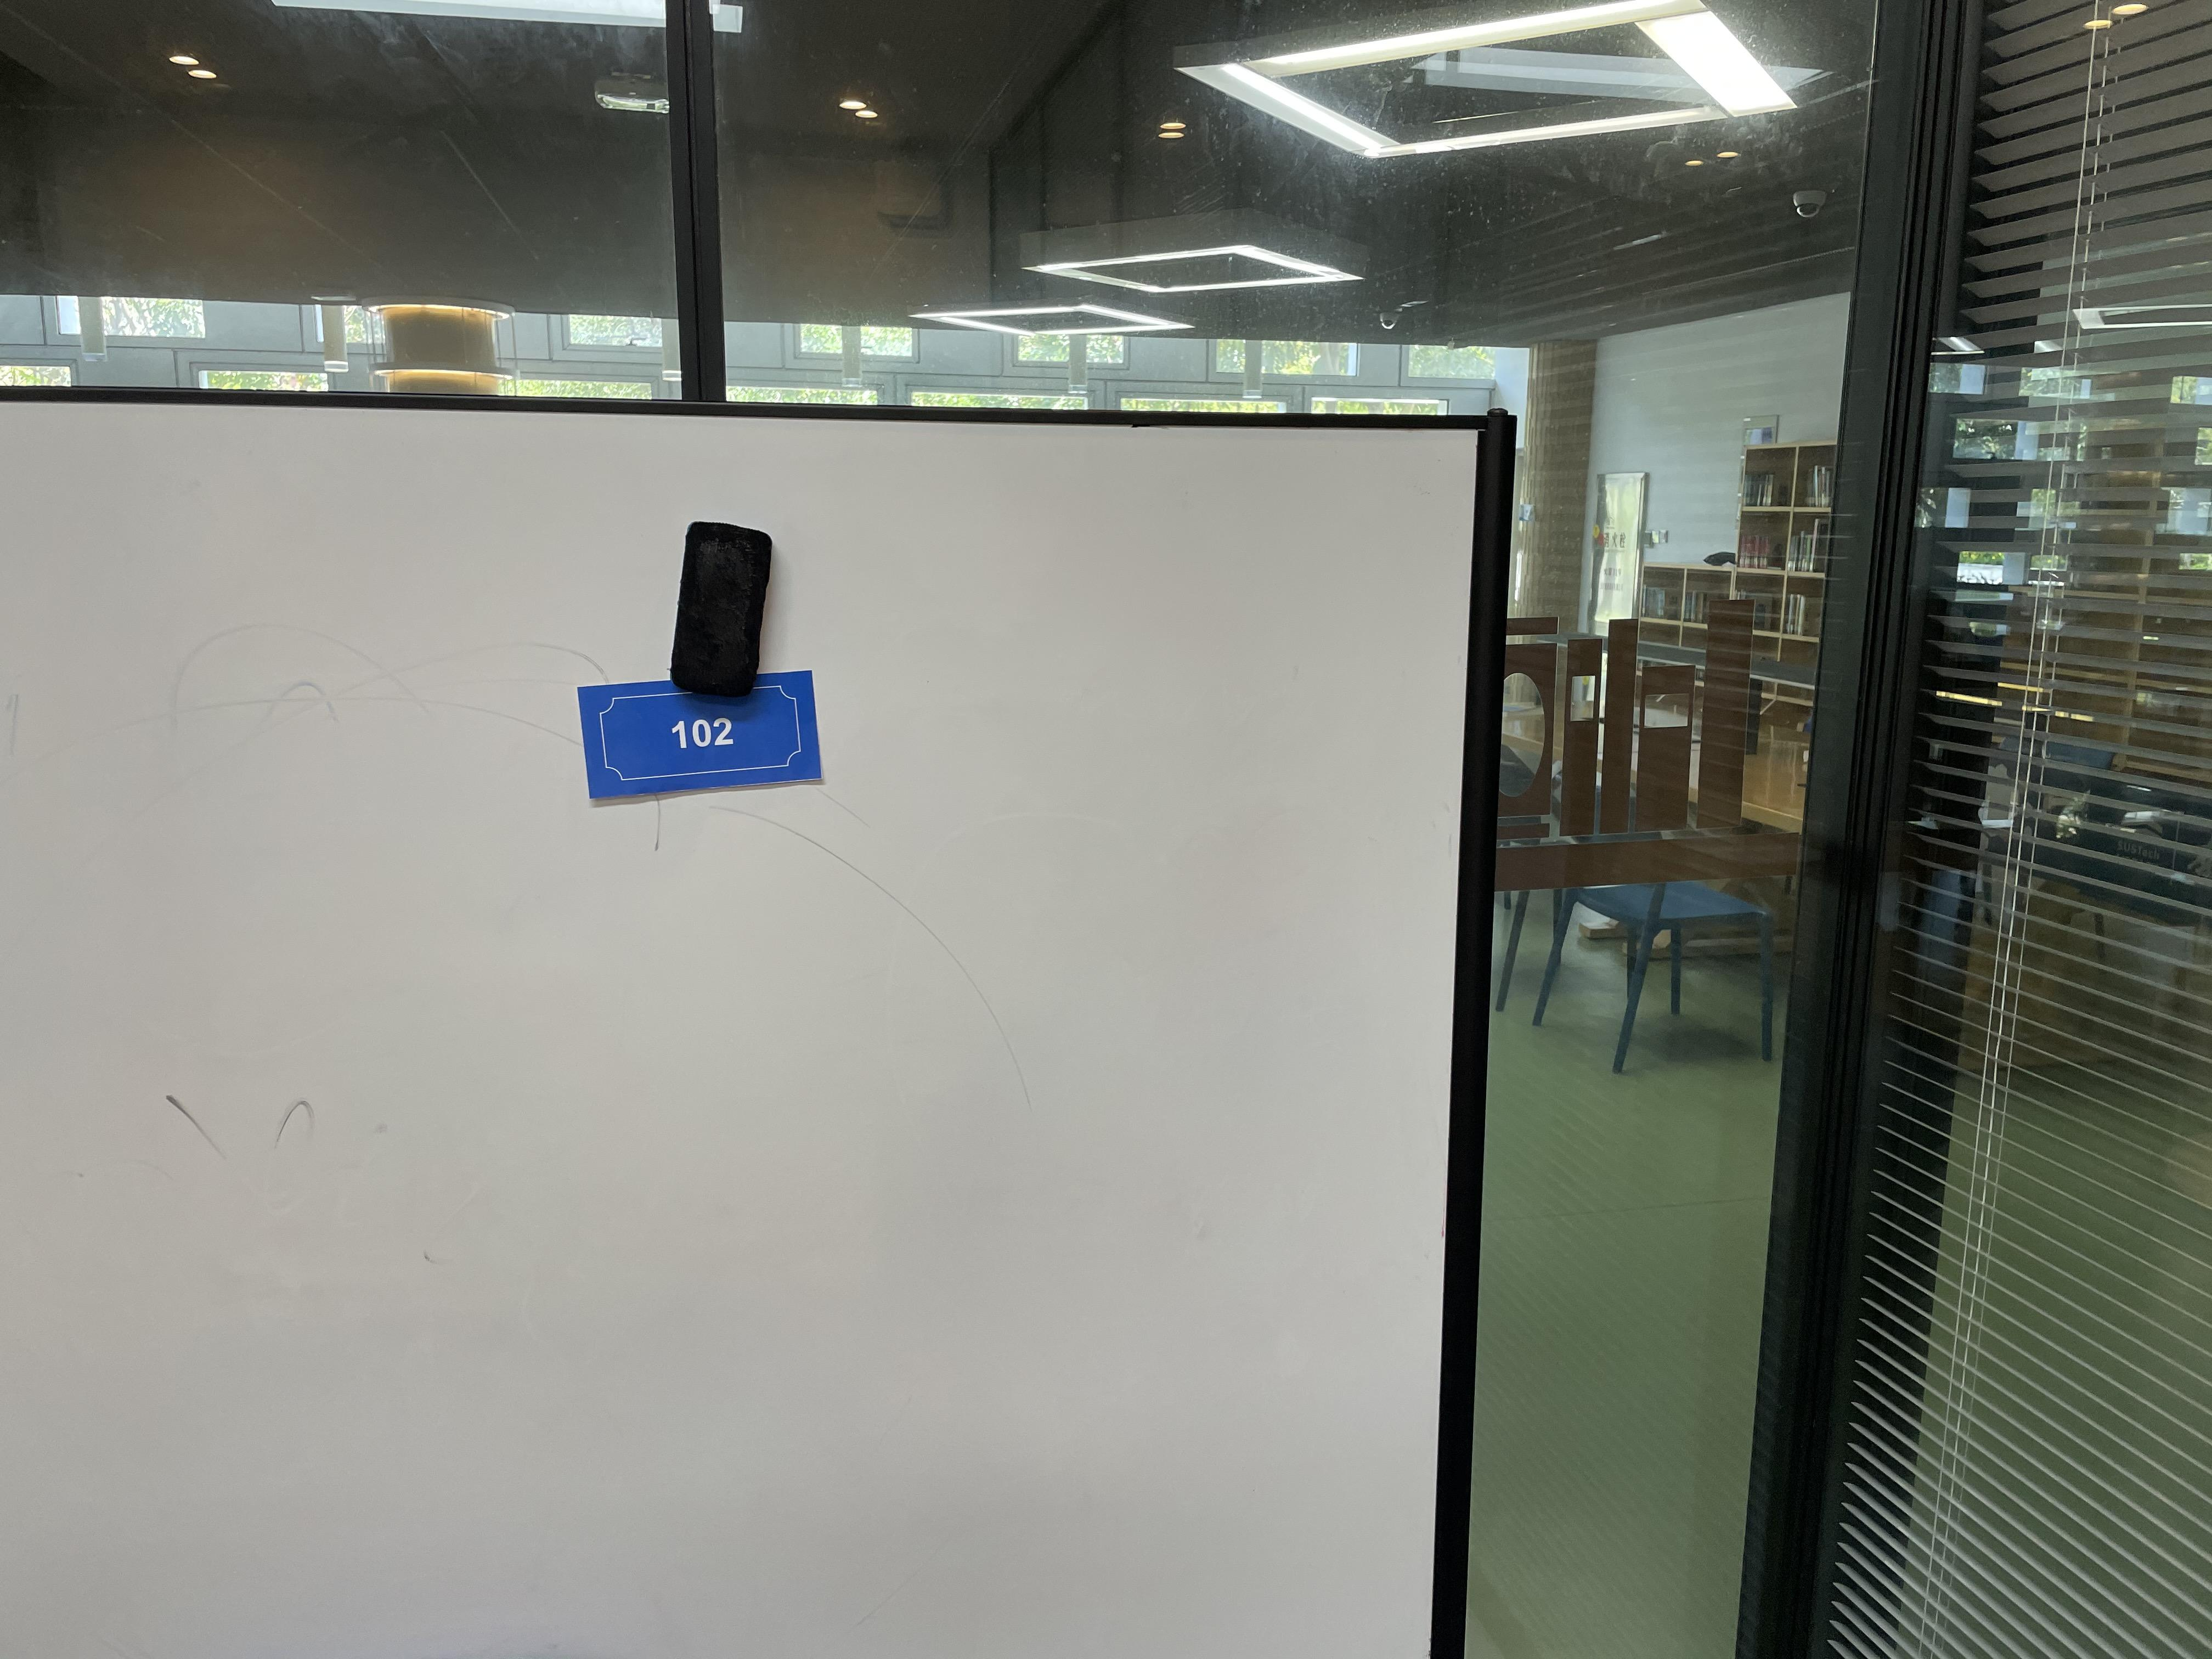Card: (566, 648, 845, 824)
